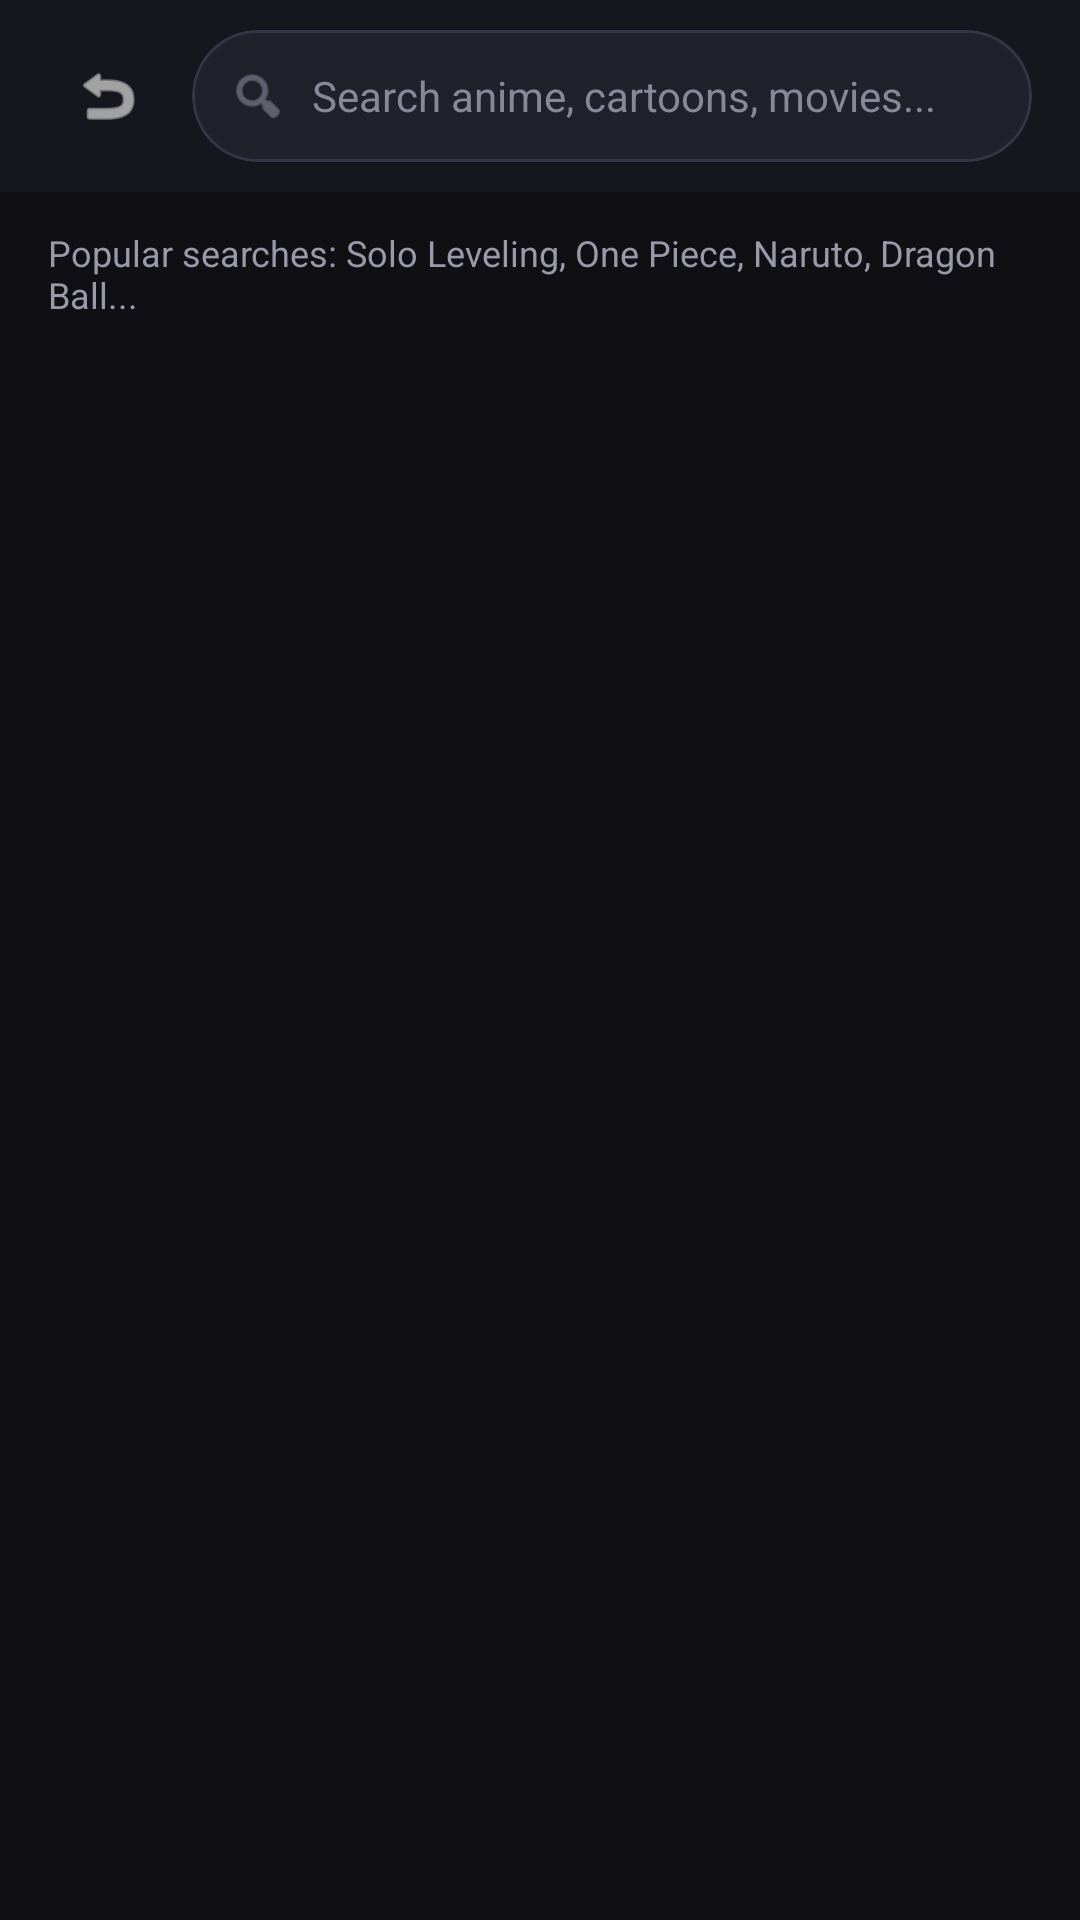

Named icons in this screenshot (1080*1920) and their bounding boxes, (x1, y1, x2, y2):
Back: (83, 73, 135, 120)
